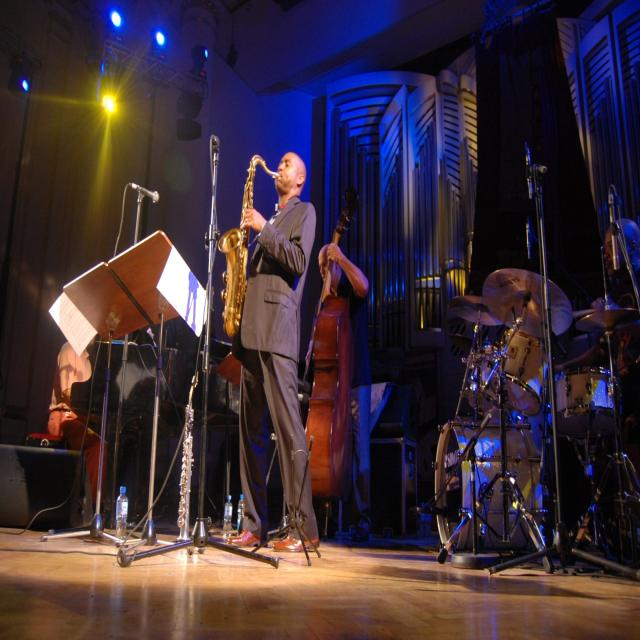drums: (431, 260, 640, 573)
saxophone: (217, 153, 283, 337)
